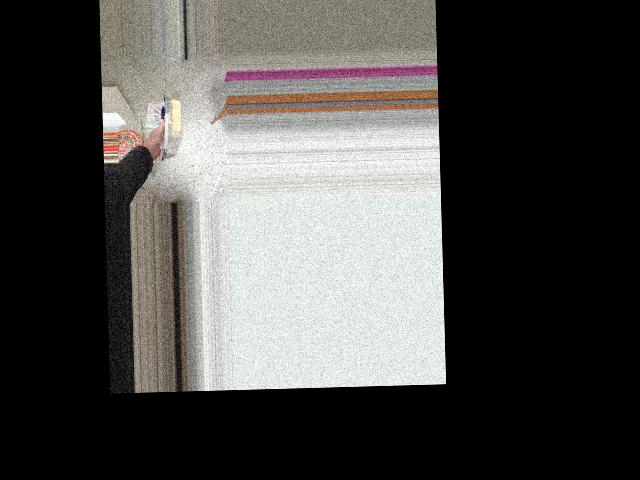cheese: (130, 100, 199, 171)
